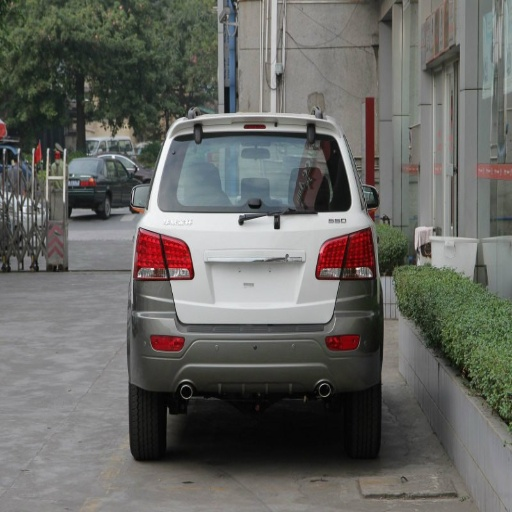back_bumper: (131, 279, 381, 396)
trunk: (145, 208, 362, 326)
